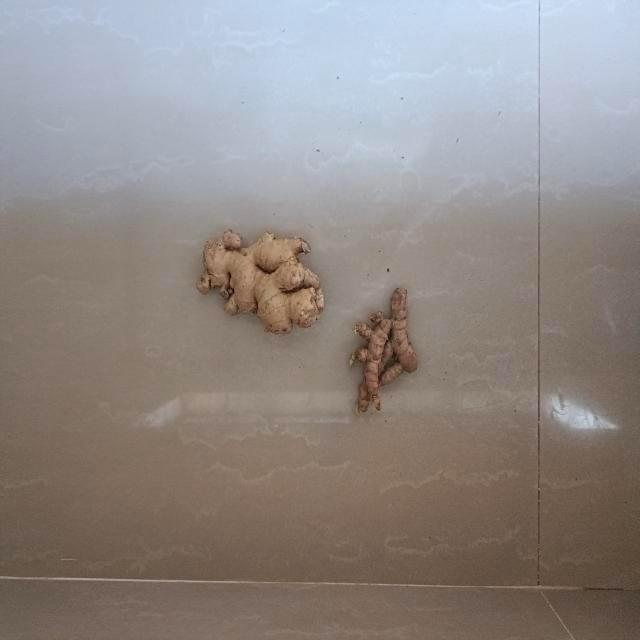ginger: (194, 228, 325, 336), (347, 283, 419, 418)
